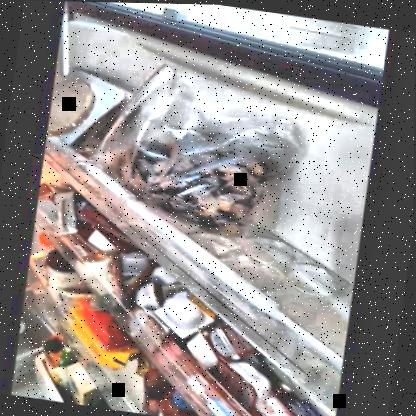butter: (63, 305, 136, 369)
dates: (111, 114, 278, 239)
milk: (62, 362, 105, 405)
salami: (49, 68, 108, 145)
